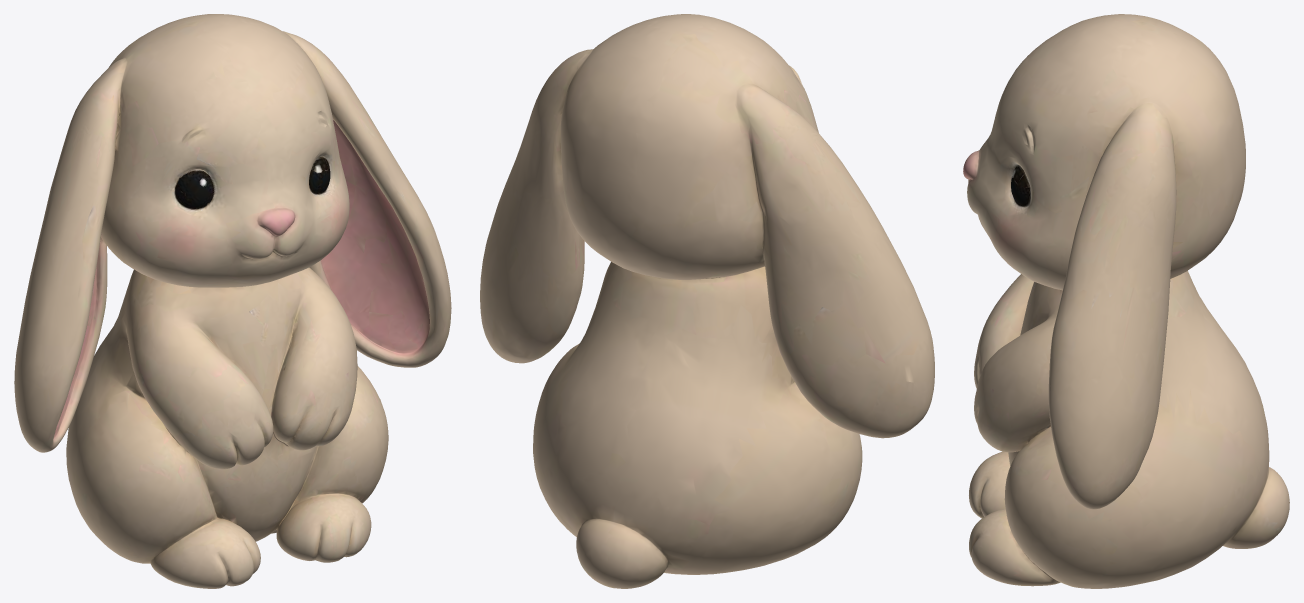
The picture shows the model from 3 angles, left to right: view 1: azimuth 30°, elevation 25°; view 2: azimuth 150°, elevation 25°; view 3: azimuth 270°, elevation 25°; orthographic projection. The views are drawn at different scales.
Size of the model in its own units: 1.72 by 1.9 by 1.1.
Materials: 1 (1 with a texture image).
